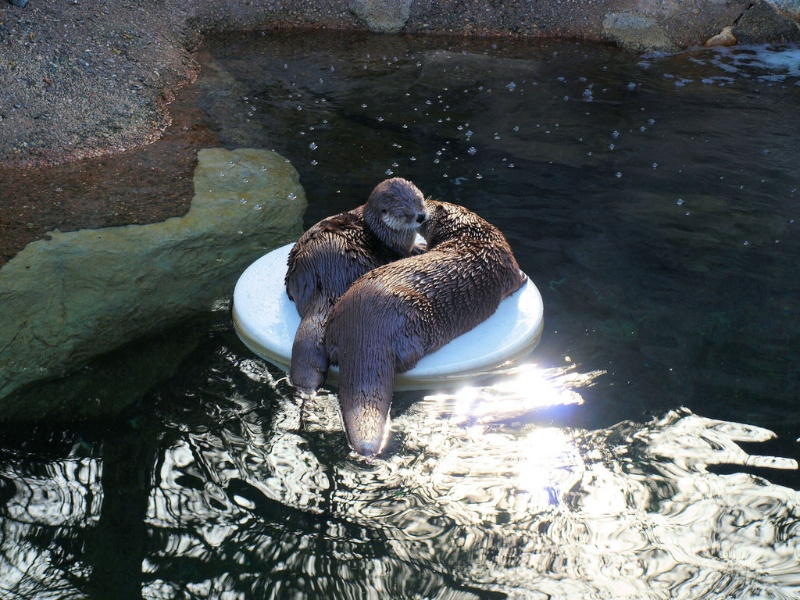minkish: (325, 204, 535, 471), (282, 173, 428, 396)
